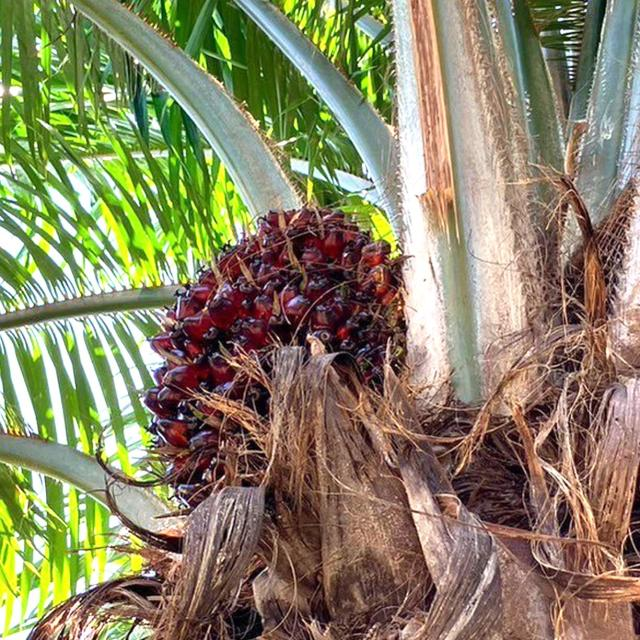ripe: (125, 190, 418, 530)
